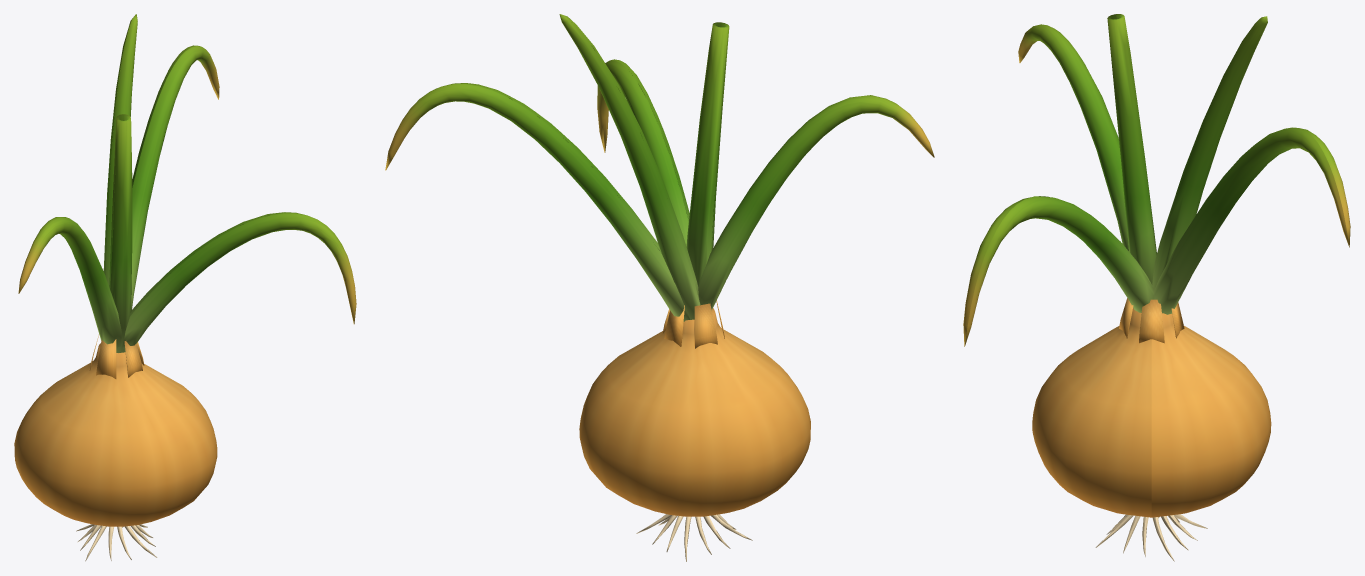
Rendered from NP_Onion_Ready_LOD1.fbx.
The picture shows the model from 3 angles, left to right: view 1: azimuth 30°, elevation 25°; view 2: azimuth 150°, elevation 25°; view 3: azimuth 270°, elevation 25°; orthographic projection. The views are drawn at different scales.
Visible parts, largest first — view 1: NP_Onion_Ready; view 2: NP_Onion_Ready; view 3: NP_Onion_Ready.
Part boxes in pixels (<box>): NP_Onion_Ready: <box>14,14,356,561</box>; NP_Onion_Ready: <box>385,14,934,561</box>; NP_Onion_Ready: <box>963,14,1350,561</box>.
Size of the model in its own units: 84.11 by 113 by 70.42.
